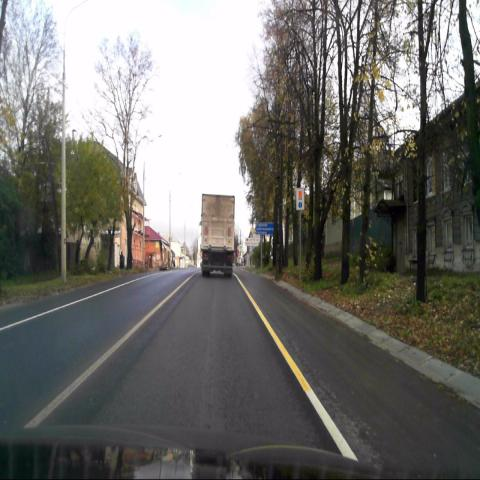4_8_2: (296, 188, 304, 210)
